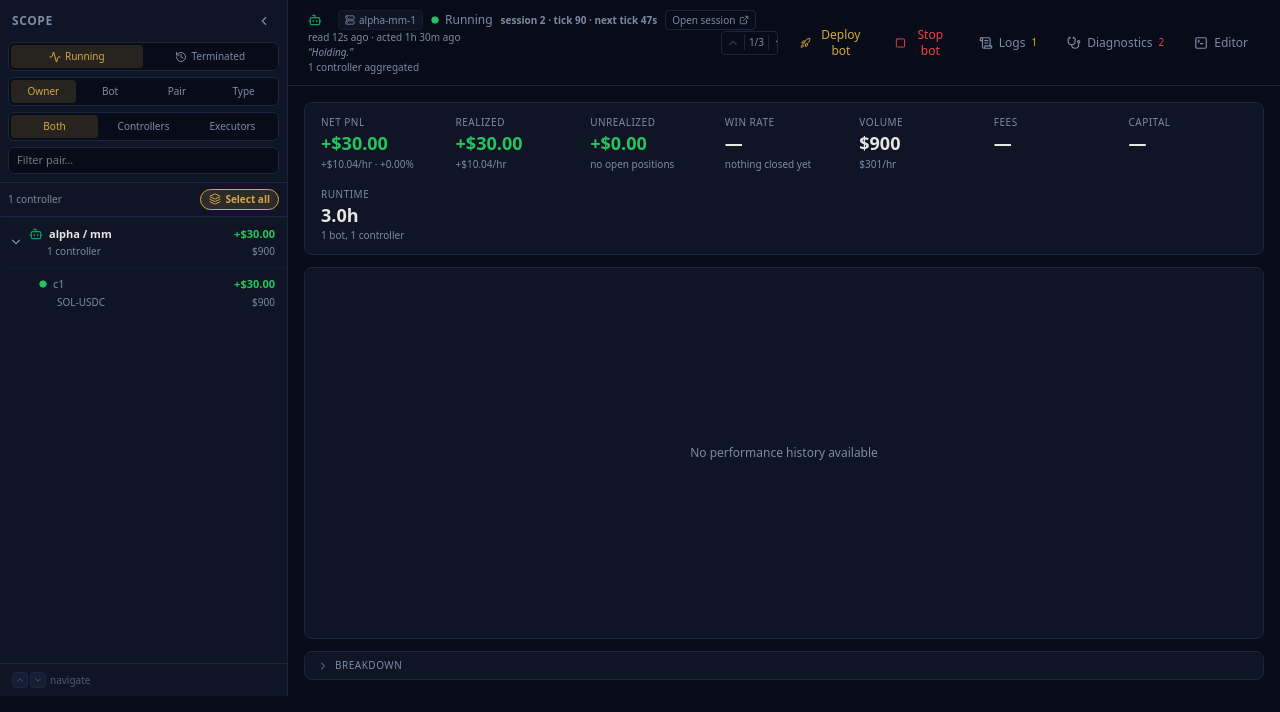
Test case: the log viewer #64 asked for › gives the drawer to whichever of the two was asked for last
The width and height of the screenshot is (1280, 712).
Click the button "Logs 1": coordinates (1008, 43) x1=967 y1=29 x2=1049 y2=57
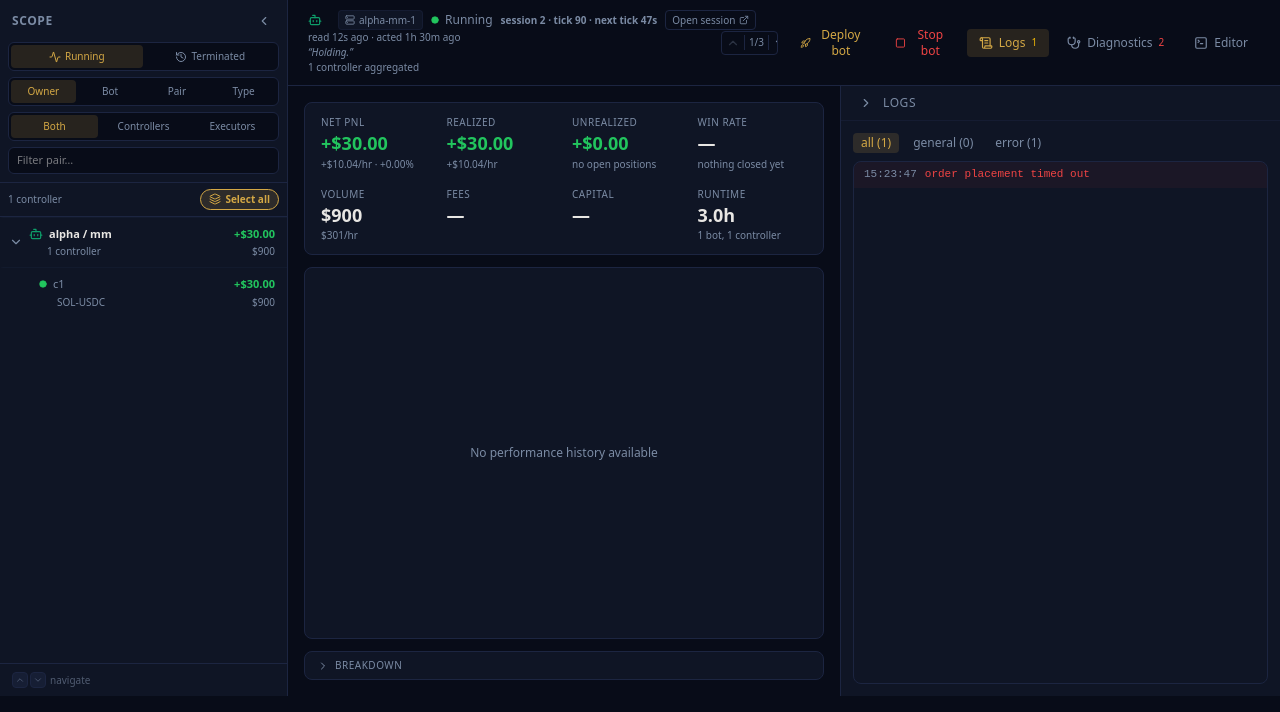
Expected: the text "order placement timed out" is shown, x1=925 y1=166 x2=1090 y2=184
Click the button "Diagnostics 2": coordinates (1116, 43) x1=1055 y1=29 x2=1176 y2=57
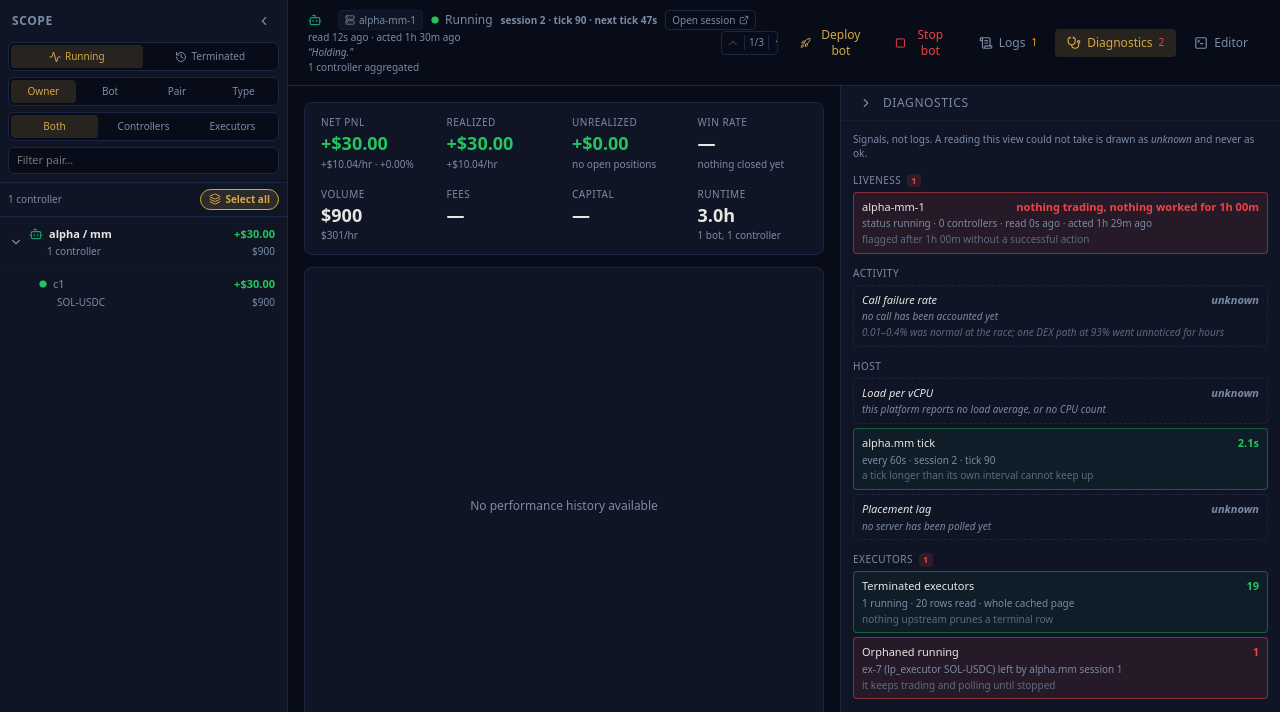
Expected: the text "order placement timed out" is gone
